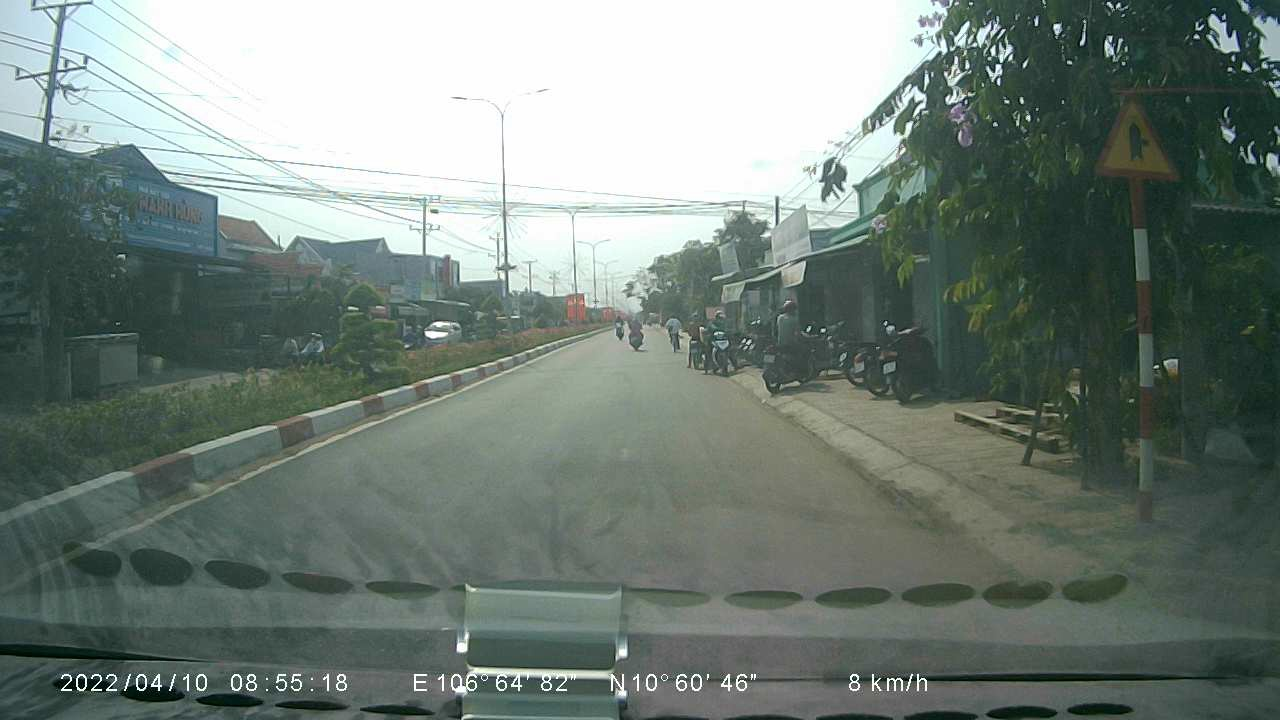Giao nhau voi duong khong uu tien: (1086, 90, 1182, 188)
